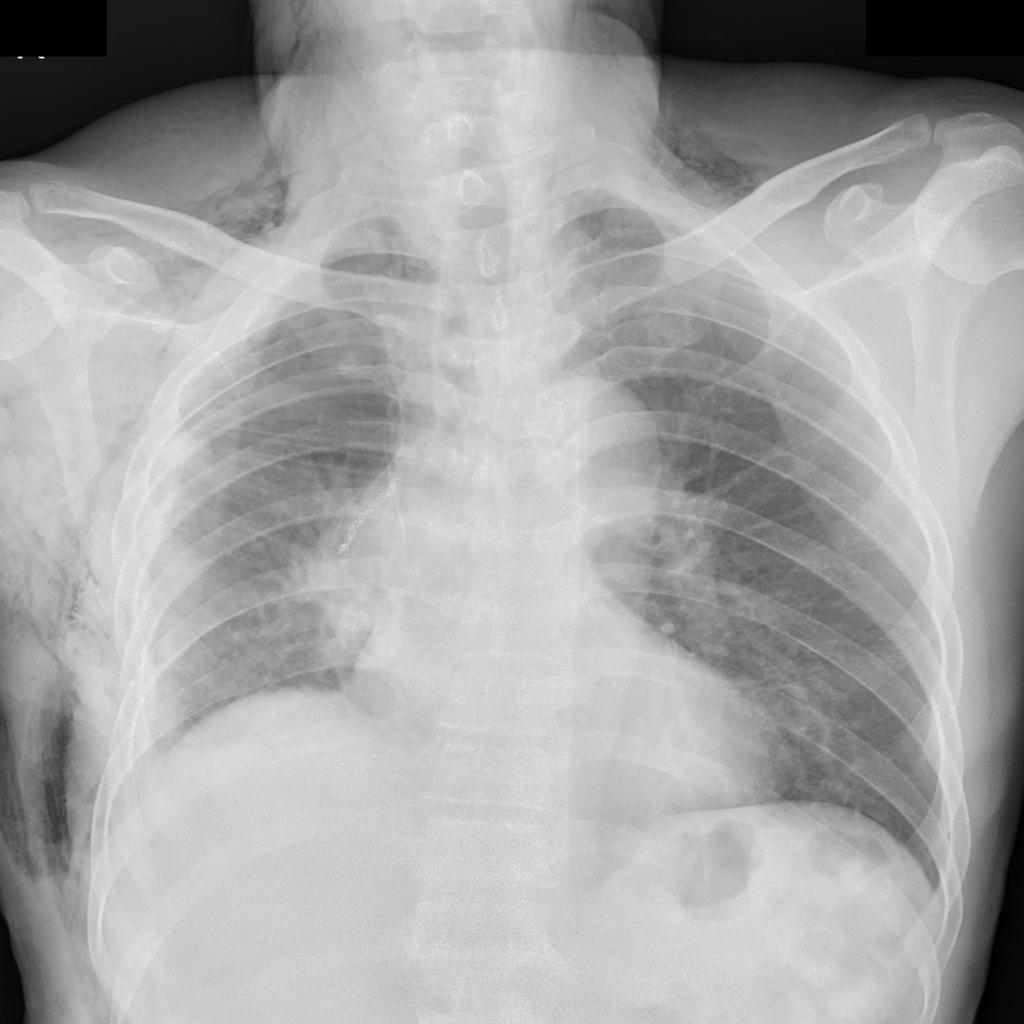Nodule: (295, 505, 395, 675)
